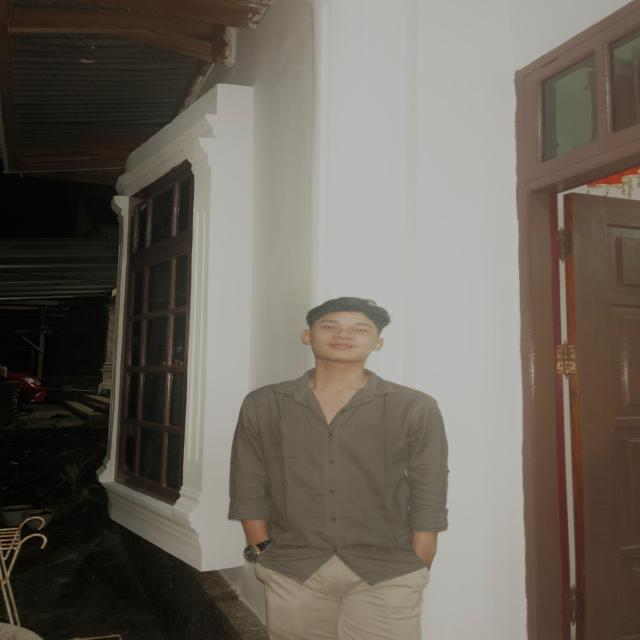nohelmet: (288, 289, 402, 372)
